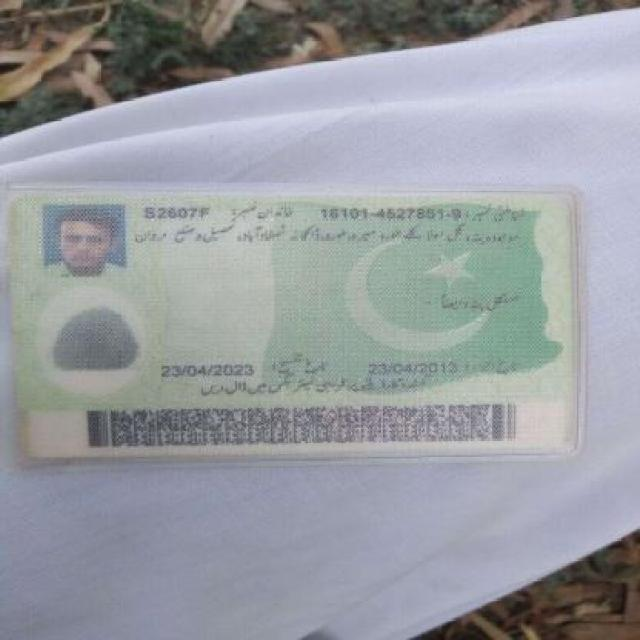Back: (11, 177, 592, 461)
